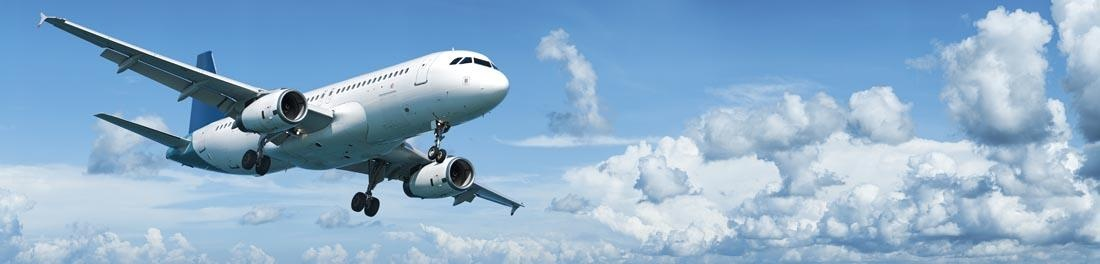airplane: (24, 15, 526, 215)
